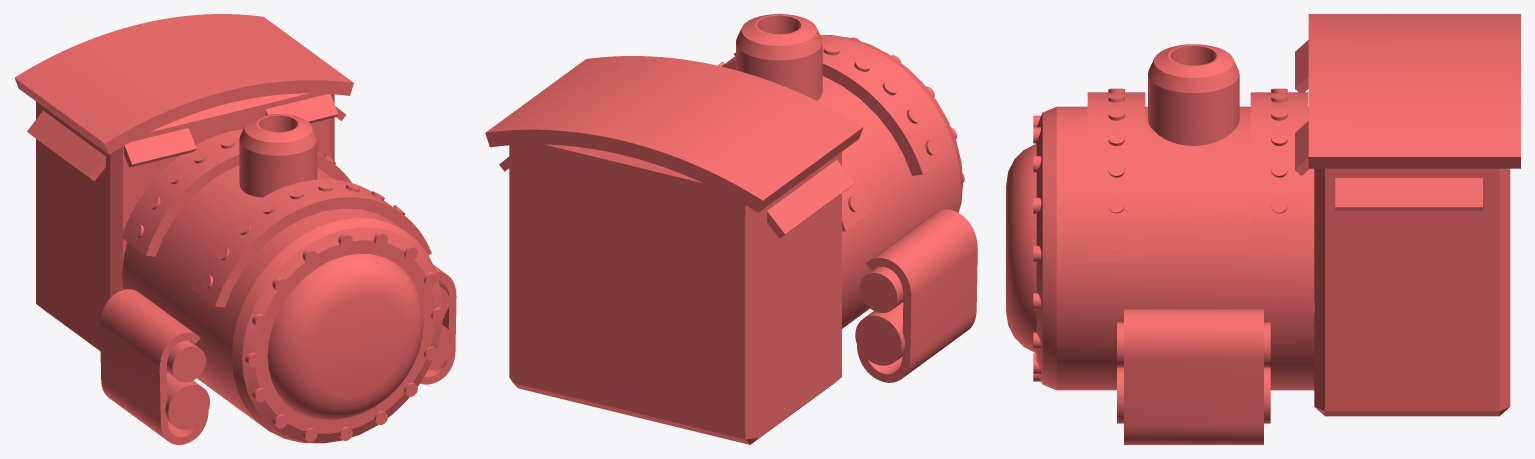
The model's file is engine back export.fbx.
3 renders of one model, left to right at view 1: azimuth 30°, elevation 25°; view 2: azimuth 150°, elevation 25°; view 3: azimuth 270°, elevation 25°, orthographic. The views are drawn at different scales.
Visible parts, largest first — view 1: engine_back_1; view 2: engine_back_1; view 3: engine_back_1.
Part boxes in pixels (x1,y1,x2,y2): engine_back_1: (14, 14, 456, 444); engine_back_1: (485, 14, 977, 444); engine_back_1: (1006, 14, 1520, 444).
Size of the model in its own units: 48.38 by 42.68 by 61.87.
